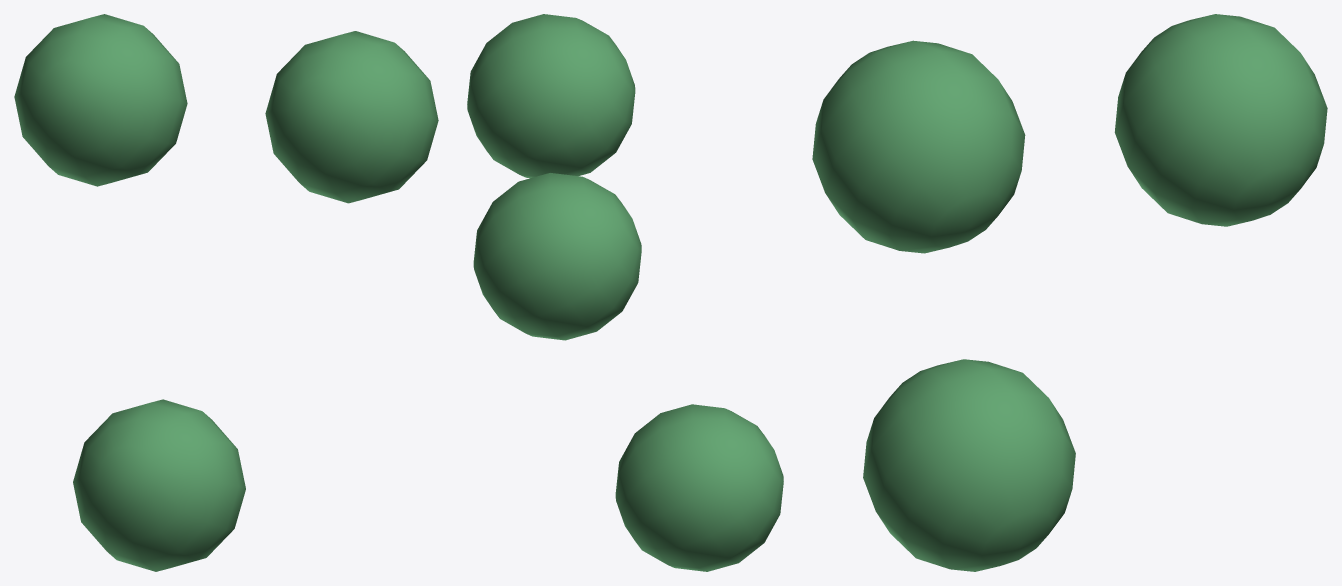
The picture shows the model from 3 angles, left to right: view 1: azimuth 30°, elevation 25°; view 2: azimuth 150°, elevation 25°; view 3: azimuth 270°, elevation 25°; orthographic projection. The views are drawn at different scales.
Parts seen in each view (by area): view 1: 左侧耳前淋巴结; view 2: 左侧耳前淋巴结; view 3: 左侧耳前淋巴结.
Part boxes in pixels (left/top/right/bottom): 左侧耳前淋巴结: left=14, top=14, right=438, bottom=571; 左侧耳前淋巴结: left=467, top=14, right=783, bottom=571; 左侧耳前淋巴结: left=812, top=14, right=1327, bottom=571.
Bounding box in the file's own units: 0.00821 × 0.0121 × 0.00921.
